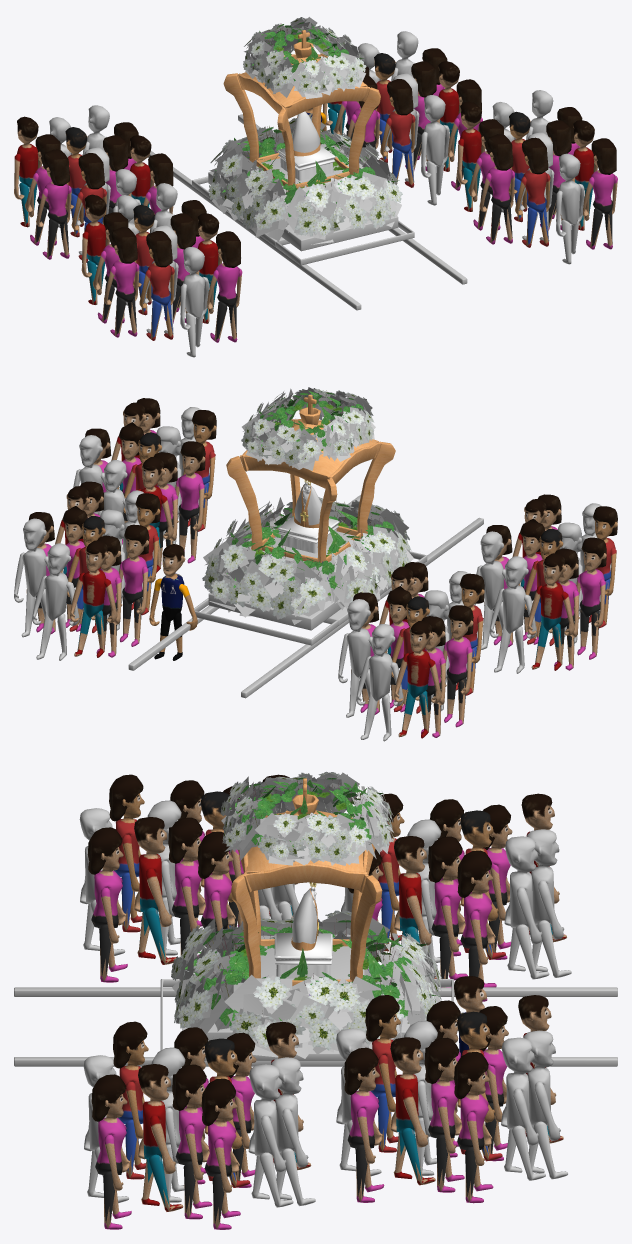
The model's file is Procissao.fbx.
3 renders of one model, top to bottom at view 1: azimuth 30°, elevation 25°; view 2: azimuth 150°, elevation 25°; view 3: azimuth 270°, elevation 25°, orthographic. The views are drawn at different scales.
Visible parts, largest first — view 1: TorsoMiritiWoman.002, TorsoMiritiWoman.071, TorsoMiritiWoman.003, LupineSF.011, TorsoMiritiWoman.001, LupineSF.001, Berlinda.001, Cube.004, Cube.003; view 2: TorsoMiritiWoman.003, TorsoMiritiWoman.001, TorsoMiritiWoman.002, LupineSF.011, TorsoMiritiWoman.071, LupineSF.001, Berlinda.001, Cube.004, Cube.003, ManBerlinda.023; view 3: TorsoMiritiWoman.001, TorsoMiritiWoman.071, TorsoMiritiWoman.003, TorsoMiritiWoman.002, LupineSF.011, LupineSF.001, Berlinda.001, Cube.004, Cube.003, ManBerlinda.023.
Part boxes in pixels (x1,y1,x2,y2): TorsoMiritiWoman.002: [81, 183, 242, 357]; TorsoMiritiWoman.071: [457, 90, 617, 264]; TorsoMiritiWoman.003: [14, 105, 173, 262]; LupineSF.011: [208, 116, 402, 244]; TorsoMiritiWoman.001: [323, 31, 482, 205]; LupineSF.001: [243, 17, 366, 98]; Berlinda.001: [223, 30, 380, 191]; Cube.004: [148, 114, 467, 310]; Cube.003: [277, 111, 335, 180]; TorsoMiritiWoman.003: [338, 562, 484, 741]; TorsoMiritiWoman.001: [14, 481, 160, 660]; TorsoMiritiWoman.002: [473, 494, 617, 673]; LupineSF.011: [202, 497, 413, 624]; TorsoMiritiWoman.071: [73, 398, 216, 572]; LupineSF.001: [241, 387, 375, 470]; Berlinda.001: [226, 394, 395, 562]; Cube.004: [128, 495, 483, 698]; Cube.003: [277, 479, 339, 553]; ManBerlinda.023: [160, 544, 185, 621]; TorsoMiritiWoman.001: [336, 995, 567, 1203]; TorsoMiritiWoman.071: [83, 1021, 315, 1229]; TorsoMiritiWoman.003: [341, 793, 571, 1001]; TorsoMiritiWoman.002: [79, 774, 299, 982]; LupineSF.011: [171, 910, 442, 1058]; LupineSF.001: [220, 771, 395, 865]; Berlinda.001: [231, 778, 382, 985]; Cube.004: [14, 934, 617, 1066]; Cube.003: [274, 882, 332, 978]; ManBerlinda.023: [454, 976, 486, 1056].
Size of the model in its own units: 186 by 81.77 by 150.
